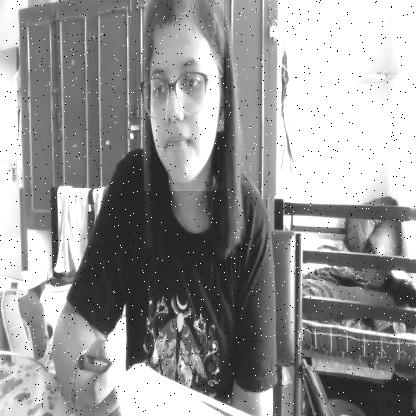Normal: (144, 0, 224, 191)
